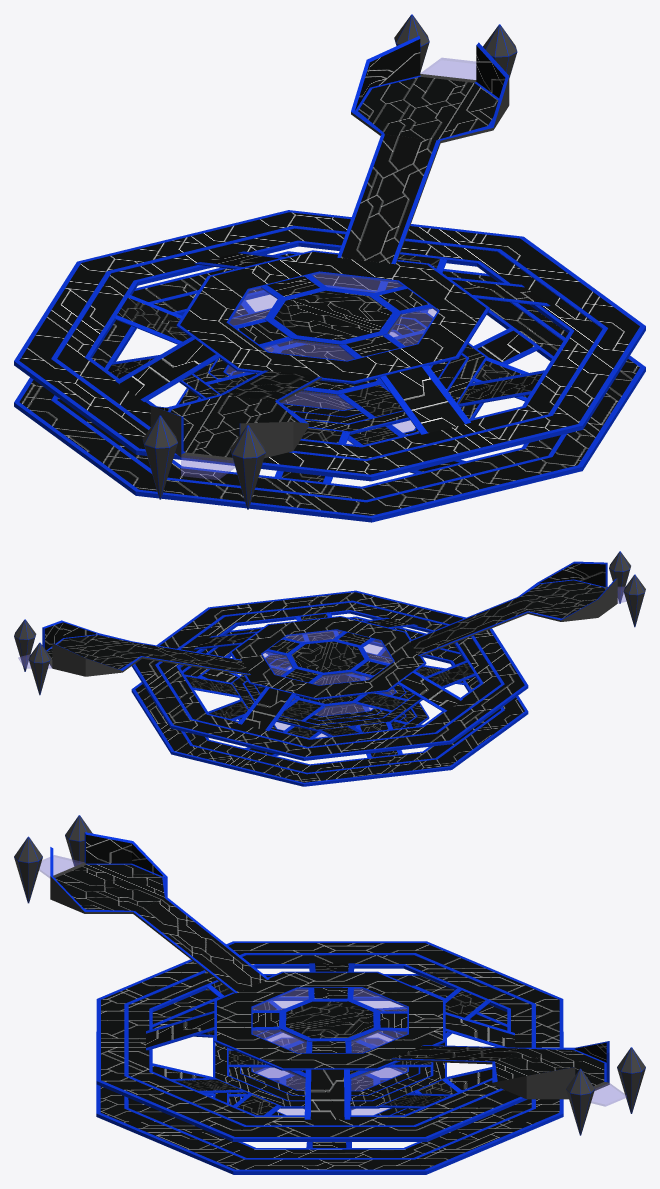
Rendered from Mitchell LVL 1-r5.fbx.
3 views of the same model, one above another, from view 1: azimuth 30°, elevation 25°; view 2: azimuth 150°, elevation 25°; view 3: azimuth 270°, elevation 25° (orthographic). The views are drawn at different scales.
Parts seen in each view (by area): view 1: polySurface1072, polySurface1069, polySurface1105 (×2), polySurface1117, polySurface1107 (×2), polySurface1137, polySurface1113, pCylinder15, polySurface1142, polySurface1139, pCylinder12 (×2), pCylinder10 (×2) (+10 smaller); view 2: polySurface1072, polySurface1069, polySurface1105 (×2), polySurface1117, polySurface1137, polySurface1107 (×2), polySurface1113, pCylinder15, polySurface1140, polySurface1138, pCylinder12 (×2), pCylinder10 (×2) (+6 smaller); view 3: polySurface1072, polySurface1069, polySurface1105 (×2), polySurface1117, polySurface1137, polySurface1107 (×2), polySurface1113, pCylinder15, polySurface1141, pCylinder10 (×2), pCylinder12 (×2), pCylinder14 (+10 smaller).
Boxes of the visible parts, bbox=[...] form: polySurface1072: bbox=[14, 210, 645, 481]; polySurface1069: bbox=[14, 251, 645, 522]; polySurface1105 (×2): bbox=[150, 36, 509, 463]; polySurface1117: bbox=[176, 250, 489, 384]; polySurface1107 (×2): bbox=[220, 134, 440, 402]; polySurface1137: bbox=[179, 308, 487, 434]; polySurface1113: bbox=[264, 286, 401, 348]; pCylinder15: bbox=[229, 272, 436, 360]; polySurface1142: bbox=[380, 365, 470, 434]; polySurface1139: bbox=[115, 336, 219, 401]; pCylinder12 (×2): bbox=[142, 24, 517, 499]; pCylinder10 (×2): bbox=[230, 14, 429, 509]; polySurface1072: bbox=[131, 590, 528, 760]; polySurface1069: bbox=[131, 616, 528, 786]; polySurface1105 (×2): bbox=[42, 561, 617, 676]; polySurface1117: bbox=[229, 616, 426, 699]; polySurface1137: bbox=[231, 652, 422, 731]; polySurface1107 (×2): bbox=[132, 597, 527, 675]; polySurface1113: bbox=[285, 639, 370, 677]; pCylinder15: bbox=[263, 630, 392, 684]; polySurface1140: bbox=[238, 687, 295, 731]; polySurface1138: bbox=[238, 677, 429, 738]; pCylinder12 (×2): bbox=[14, 574, 645, 671]; pCylinder10 (×2): bbox=[28, 551, 630, 695]; polySurface1072: bbox=[96, 941, 563, 1141]; polySurface1069: bbox=[96, 974, 563, 1174]; polySurface1105 (×2): bbox=[50, 832, 609, 1099]; polySurface1117: bbox=[214, 971, 445, 1070]; polySurface1137: bbox=[213, 1008, 446, 1108]; polySurface1107 (×2): bbox=[133, 897, 526, 1064]; polySurface1113: bbox=[279, 998, 380, 1042]; pCylinder15: bbox=[253, 988, 406, 1052]; polySurface1141: bbox=[304, 1069, 350, 1119]; pCylinder10 (×2): bbox=[14, 836, 645, 1113]; pCylinder12 (×2): bbox=[65, 815, 594, 1135]; pCylinder14: bbox=[253, 1033, 406, 1090].
Size of the model in its own units: 305 by 78.97 by 306.
